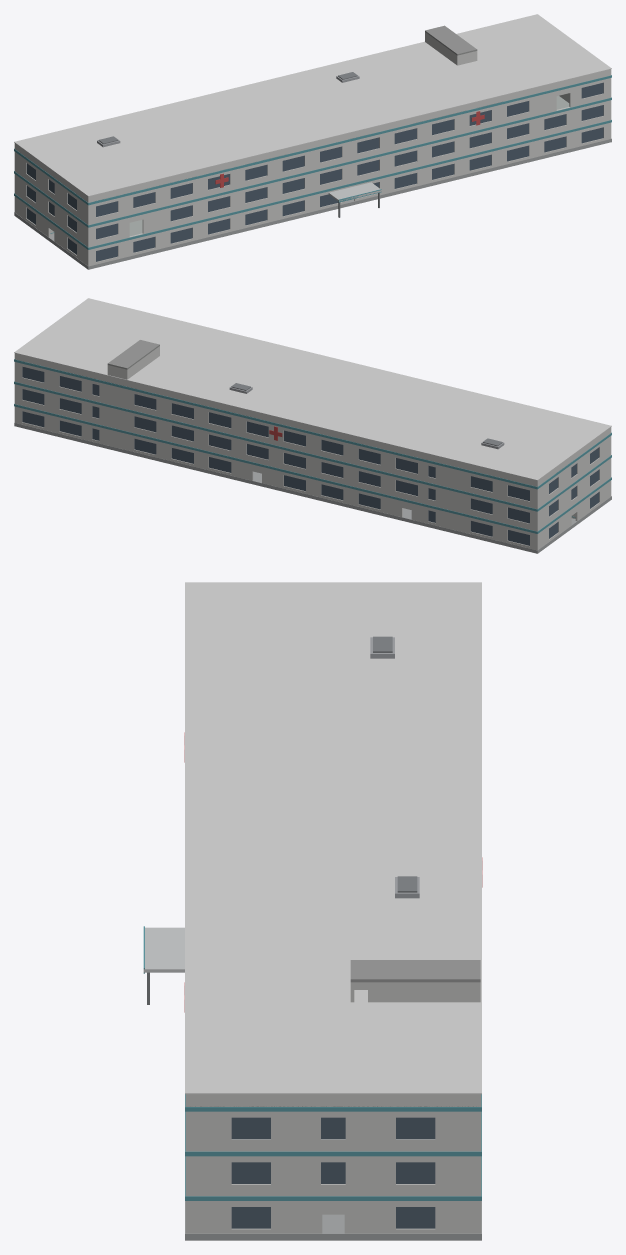
The model's file is hosp-main.mega-v1.lod0.glb.
3 renders of one model, top to bottom at view 1: azimuth 30°, elevation 25°; view 2: azimuth 150°, elevation 25°; view 3: azimuth 270°, elevation 25°, orthographic. The views are drawn at different scales.
Visible parts, largest first — view 1: hosp-main; view 2: hosp-main; view 3: hosp-main.
Boxes of the visible parts, x1,y1,x2,y2 form: hosp-main: (14,14,611,269); hosp-main: (14,298,611,553); hosp-main: (143,582,482,1240).
Size of the model in its own units: 98.12 by 15.25 by 27.48.
